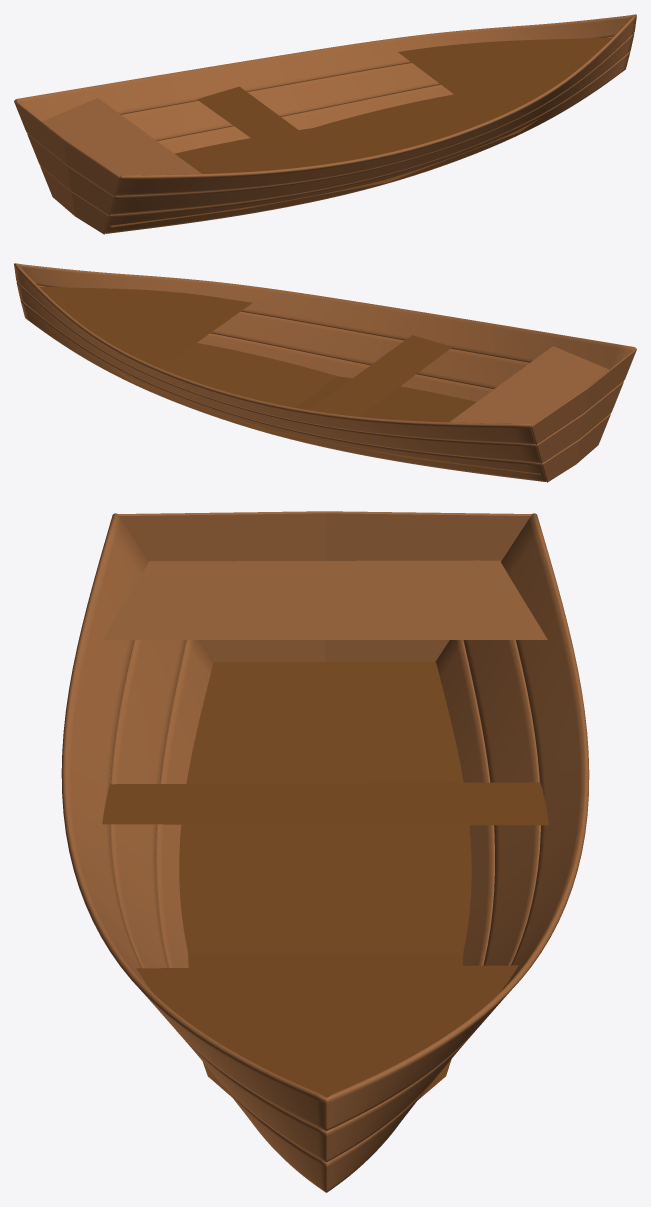
The model's file is puddle.glb.
3 renders of one model, top to bottom at view 1: azimuth 30°, elevation 25°; view 2: azimuth 150°, elevation 25°; view 3: azimuth 270°, elevation 25°, orthographic. The views are drawn at different scales.
Visible parts, largest first — view 1: side, Plane.001, Plane.004, Plane.003, back, Plane.002; view 2: side, Plane.001, Plane.004, Plane.003, back, Plane.002; view 3: side, Plane.001, Plane.003, Plane.004, back, Plane.002.
Part boxes in pixels (x1,y1,x2,y2): side: (15,14,636,233); Plane.001: (110,94,540,227); Plane.004: (398,37,611,125); Plane.003: (42,98,201,176); back: (14,100,120,234); Plane.002: (197,86,341,168); side: (14,263,635,481); Plane.001: (106,343,540,474); Plane.004: (39,286,252,368); Plane.003: (449,346,608,441); back: (530,348,636,482); Plane.002: (309,335,451,428); side: (61,513,589,1192); Plane.001: (179,662,471,1101); Plane.003: (102,560,547,639); Plane.004: (136,965,518,1121); back: (118,511,531,662); Plane.002: (102,782,548,825).
Size of what is drawn, in the model's own units: 4.07 by 0.6392 by 1.62.
